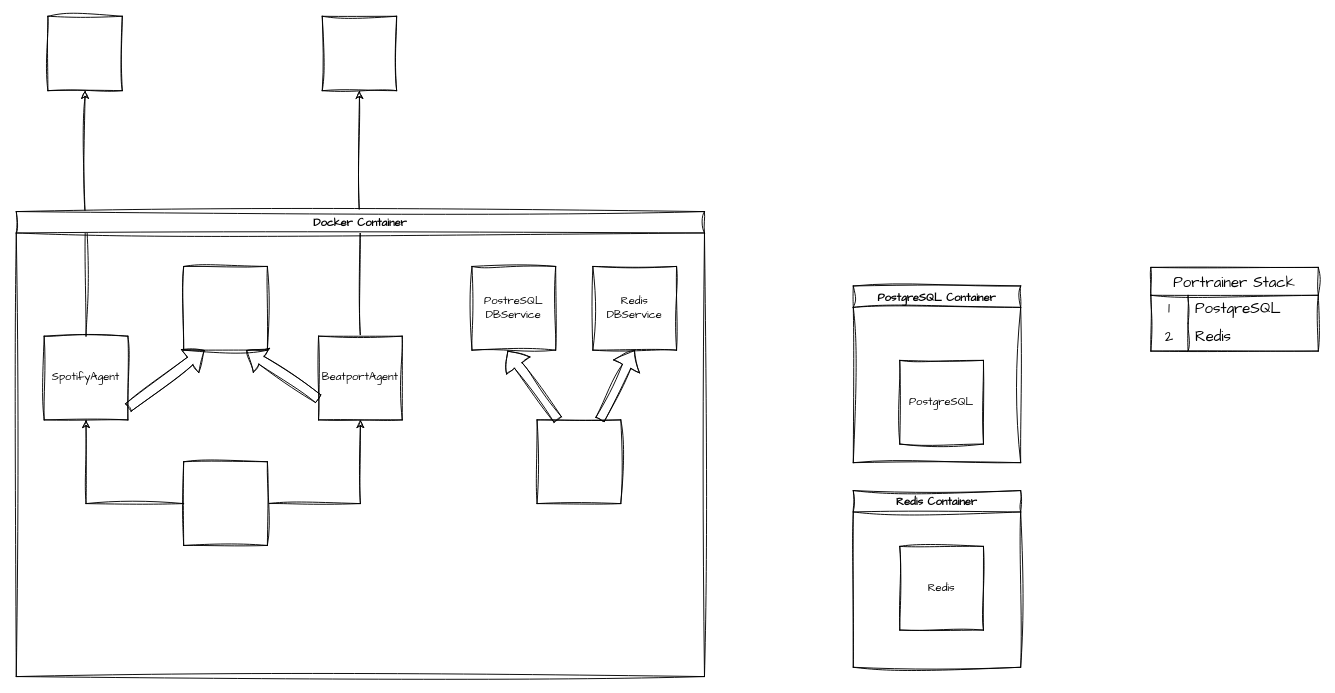
The diagram is 1335 pixels wide and 693 high, and some of its shapes have lost their labels. Each missing label, with the centre of its shape:
"Beatport" belongs at (359,53).
"DBService" belongs at (578,461).
"ParsingAgent" belongs at (225,308).
"Scheduler" belongs at (225,503).
"Spotify" belongs at (84,53).
